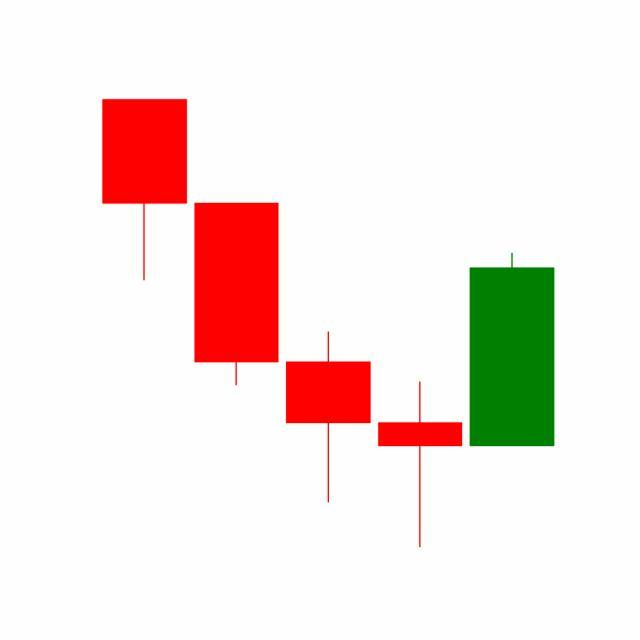Spinning Top: (374, 381, 468, 551)
